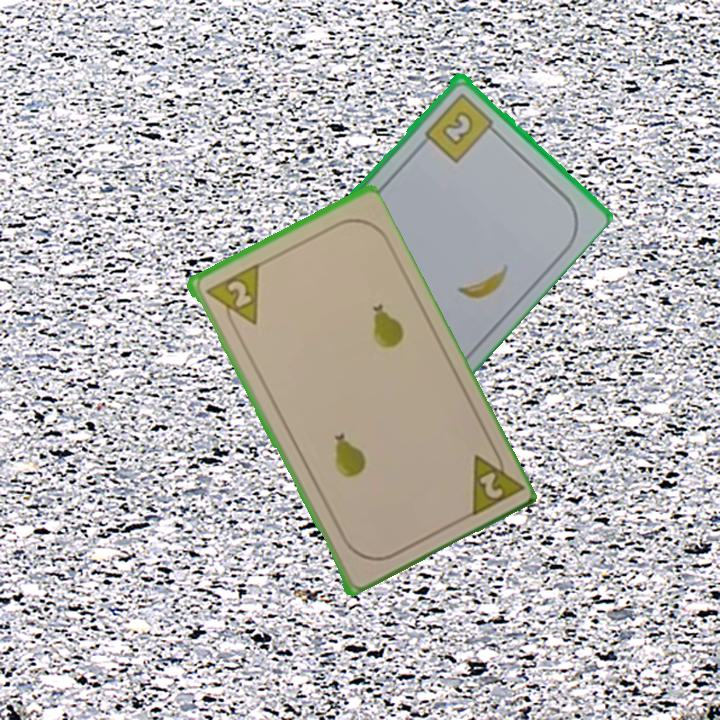2b: (421, 89, 501, 165)
2p: (463, 441, 524, 520), (201, 260, 262, 335)
